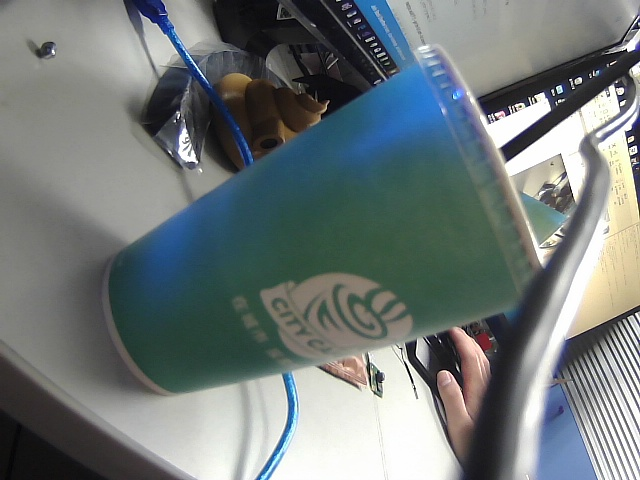beverage: (95, 37, 640, 415)
